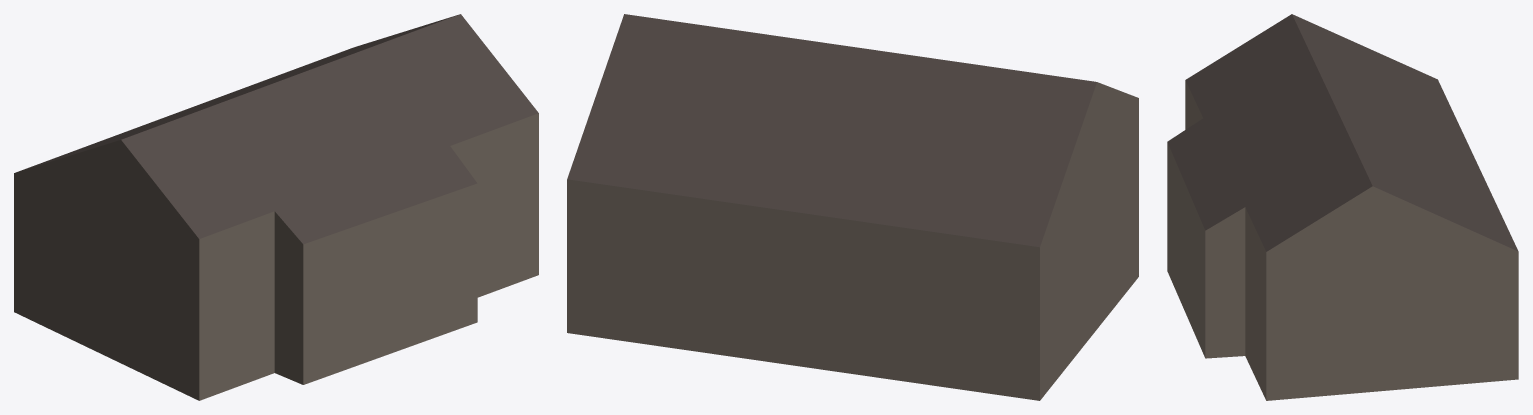
3 views of the same model, side by side, from view 1: azimuth 30°, elevation 25°; view 2: azimuth 150°, elevation 25°; view 3: azimuth 270°, elevation 25° (orthographic). The views are drawn at different scales.
Parts seen in each view (by area): view 1: HP-w496382177; view 2: HP-w496382177; view 3: HP-w496382177.
Boxes of the visible parts, left/top/right/bottom form: HP-w496382177: left=14, top=14, right=538, bottom=400; HP-w496382177: left=567, top=14, right=1138, bottom=400; HP-w496382177: left=1167, top=14, right=1518, bottom=400.
Size of the model in its own units: 19.5 by 9.66 by 14.95.
